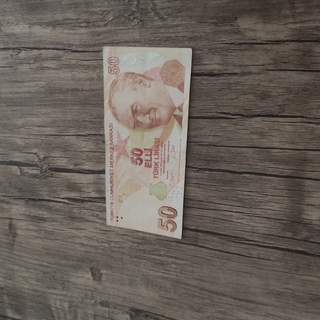50TLFront: (102, 45, 192, 240)
